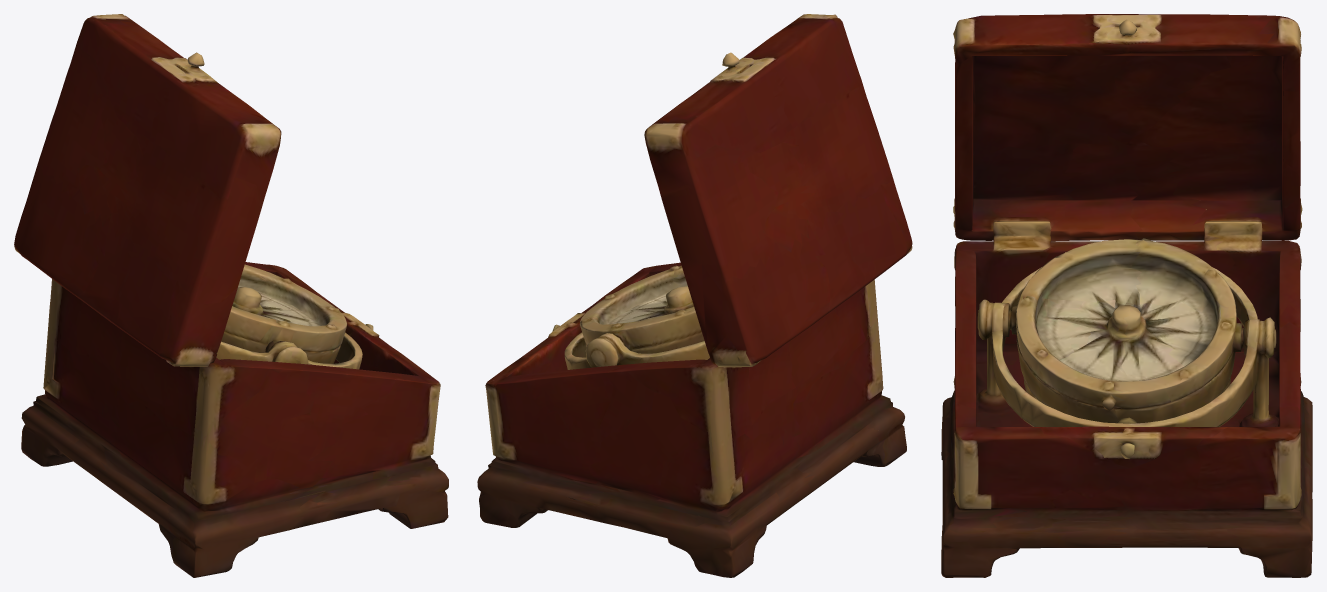
Rendered from unsolved.glb.
3 renders of one model, left to right at view 1: azimuth 30°, elevation 25°; view 2: azimuth 150°, elevation 25°; view 3: azimuth 270°, elevation 25°, orthographic. The views are drawn at different scales.
Visible parts, largest first — view 1: tripo_node_d7fc1c12-7222-4250-9d12-2eed2560c7f9; view 2: tripo_node_d7fc1c12-7222-4250-9d12-2eed2560c7f9; view 3: tripo_node_d7fc1c12-7222-4250-9d12-2eed2560c7f9.
Boxes of the visible parts, x1,y1,x2,y2 form: tripo_node_d7fc1c12-7222-4250-9d12-2eed2560c7f9: [14, 14, 448, 577]; tripo_node_d7fc1c12-7222-4250-9d12-2eed2560c7f9: [477, 14, 912, 577]; tripo_node_d7fc1c12-7222-4250-9d12-2eed2560c7f9: [941, 14, 1312, 577].
Size of the model in its own units: 0.6678 by 1 by 0.7109.
1 material, 1 textured.
